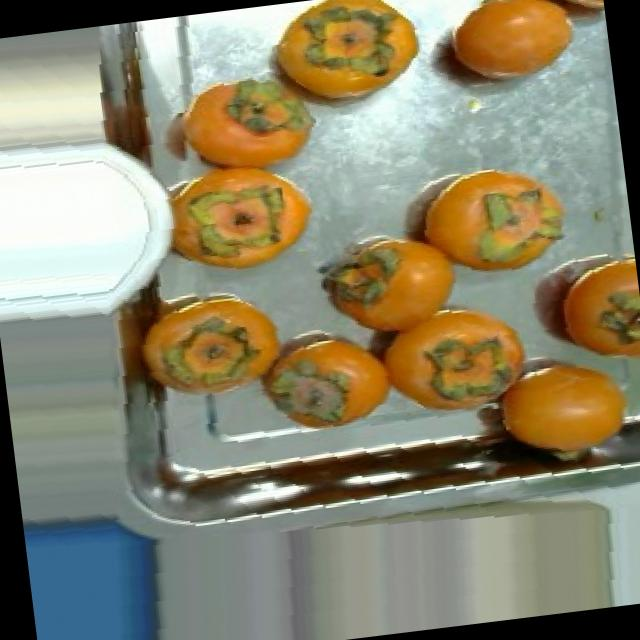Fruit: (302, 213, 484, 355), (146, 150, 328, 292), (127, 274, 302, 418), (252, 0, 441, 127), (238, 308, 400, 441), (477, 335, 640, 466), (388, 286, 547, 417), (412, 0, 596, 107), (511, 251, 640, 389)
